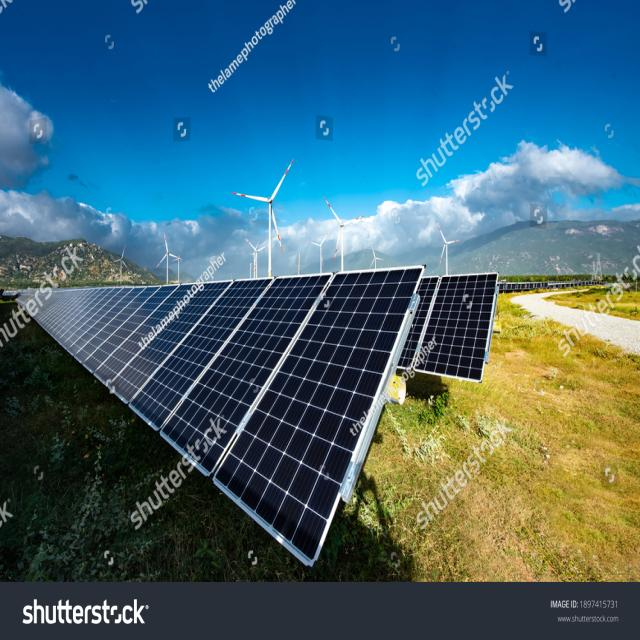clean-solar-panel: (20, 265, 424, 565), (424, 275, 495, 378)
